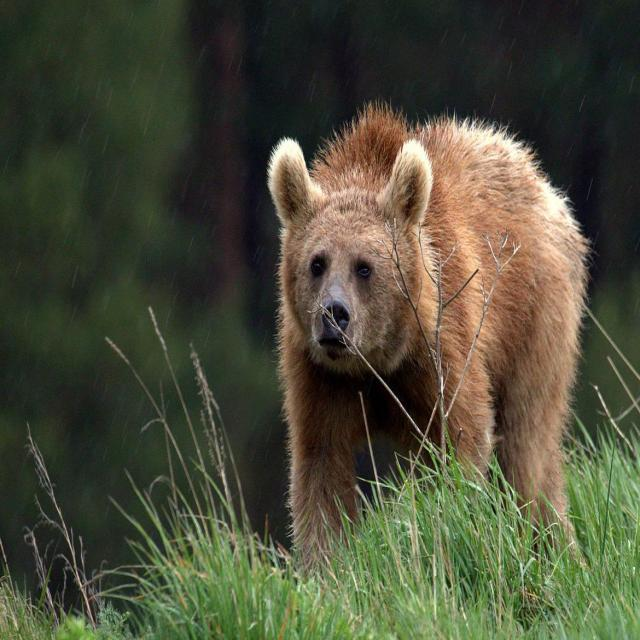Bear: (265, 104, 592, 567)
